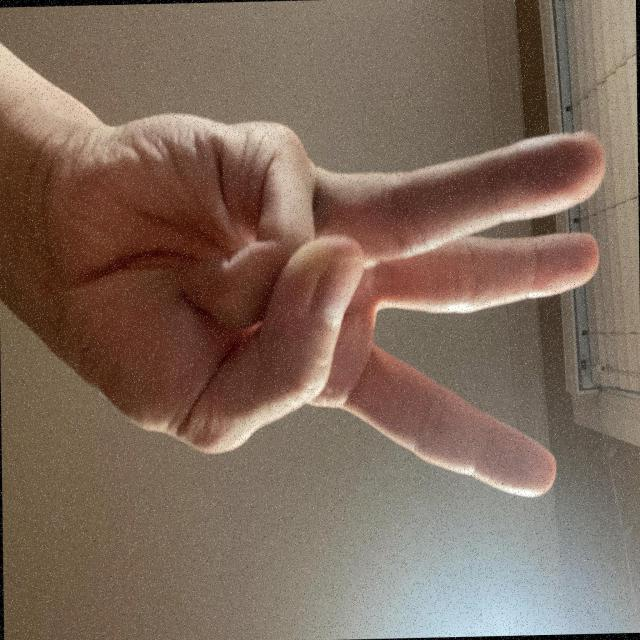W: (231, 26, 551, 640)
